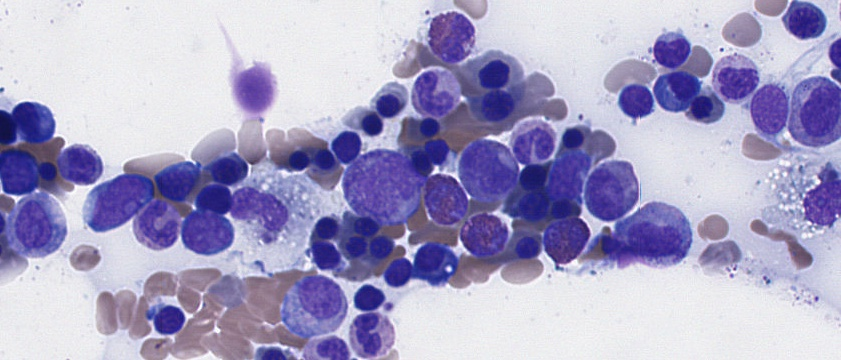objectness: (657, 60, 707, 110), (1, 92, 51, 142), (403, 232, 453, 282), (6, 198, 56, 248), (296, 269, 346, 319), (121, 206, 171, 256), (340, 306, 390, 356), (401, 70, 451, 120), (506, 113, 556, 163), (628, 214, 678, 264), (53, 140, 103, 190), (581, 166, 631, 216), (426, 11, 476, 61), (540, 217, 590, 267), (456, 208, 506, 258), (418, 175, 468, 225), (461, 142, 511, 192), (712, 57, 762, 107), (181, 205, 231, 255), (95, 173, 145, 223), (469, 46, 519, 96), (373, 247, 423, 297), (547, 110, 597, 160), (506, 152, 556, 202), (393, 137, 443, 187), (343, 273, 393, 323), (298, 230, 348, 280), (535, 182, 585, 232), (414, 126, 464, 176), (22, 144, 72, 194), (746, 81, 796, 131), (643, 25, 693, 75), (608, 76, 658, 126), (143, 294, 193, 344), (356, 220, 406, 270), (502, 223, 552, 273), (191, 171, 241, 221), (347, 99, 397, 149), (153, 156, 203, 206), (274, 134, 324, 184), (363, 79, 413, 129), (298, 201, 348, 251), (202, 142, 252, 192), (339, 201, 389, 251), (676, 83, 726, 133), (508, 180, 558, 230), (473, 77, 523, 127), (329, 221, 379, 271), (356, 151, 406, 201), (778, 0, 828, 44), (800, 83, 841, 133), (0, 150, 41, 200), (311, 324, 361, 360), (0, 101, 29, 151)
